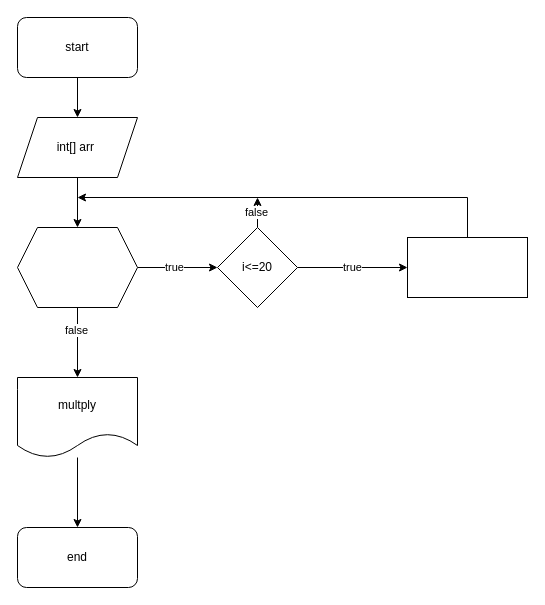
Some shapes in this 545 by 605 pixel diagram are drawn without their labels. Here are the shapes that lost their labels. From the top down, the centre of each, then its label:
[77,267]: i=0; i<=arr length; multply
[467,267]: multiply*=arr[i]
